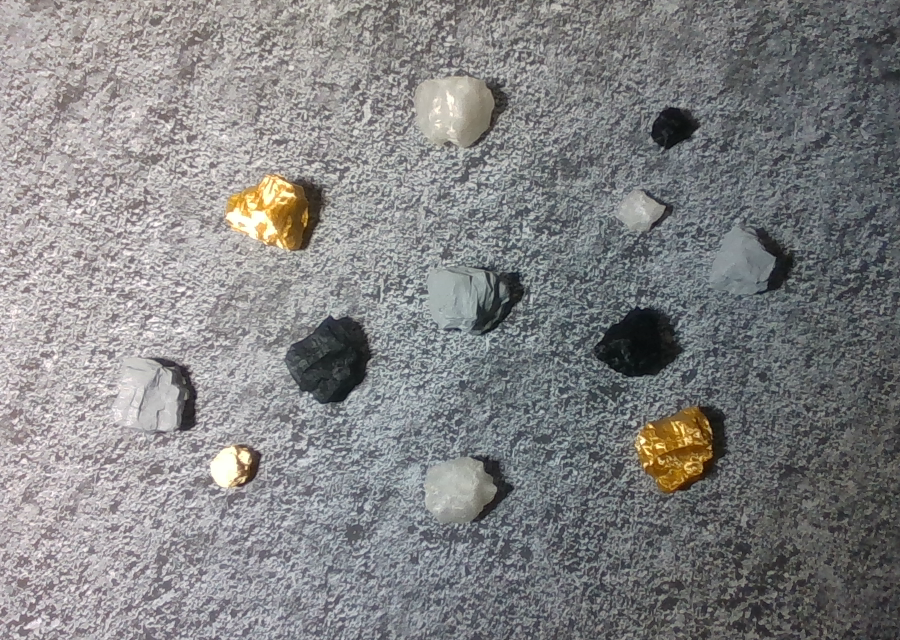anorthosite: (413, 74, 497, 149), (423, 455, 498, 525), (614, 188, 668, 233)
basalt: (285, 314, 364, 405), (593, 307, 662, 378), (650, 106, 694, 149)
metal: (636, 405, 716, 494), (224, 172, 310, 253), (210, 444, 260, 491)
regolith: (109, 355, 191, 437), (426, 264, 512, 334), (708, 226, 781, 295)
